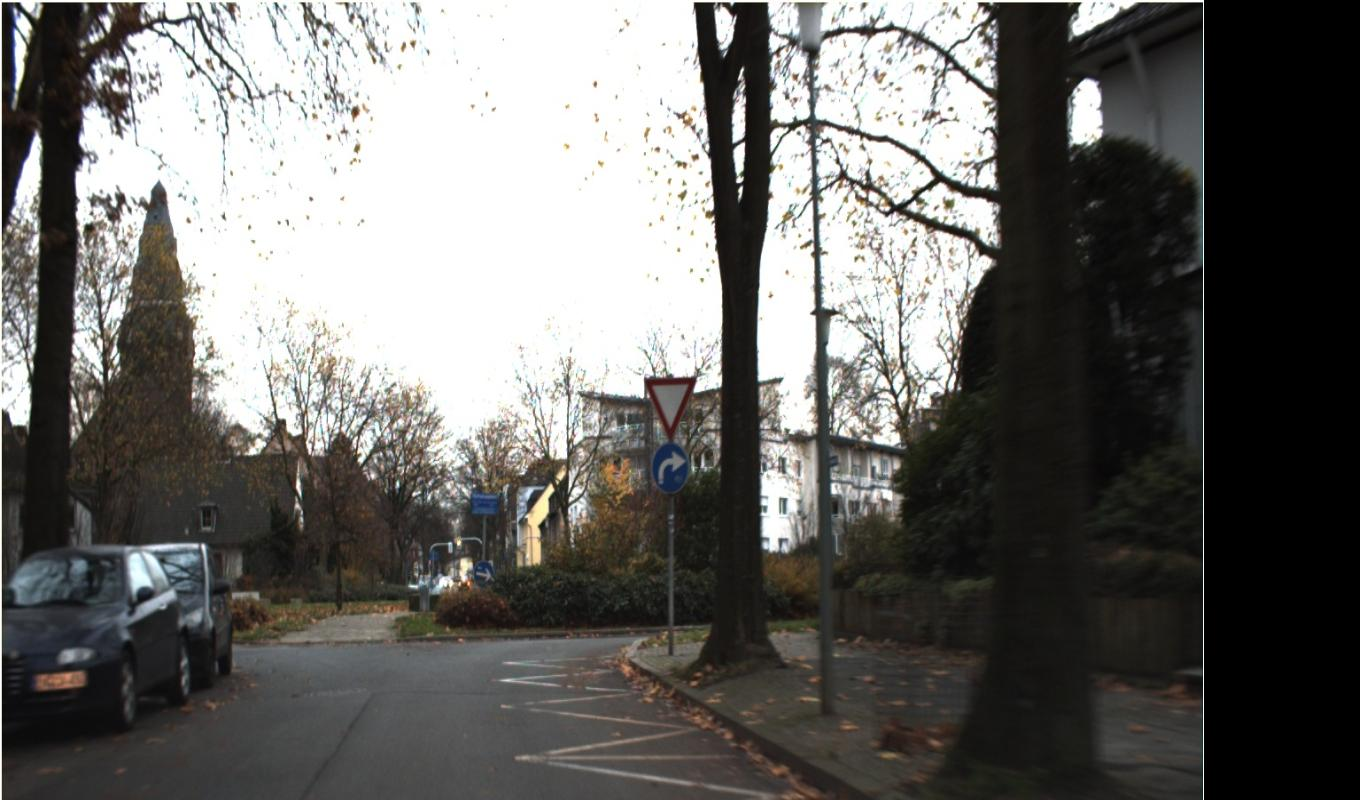give way: (473, 376, 697, 589)
